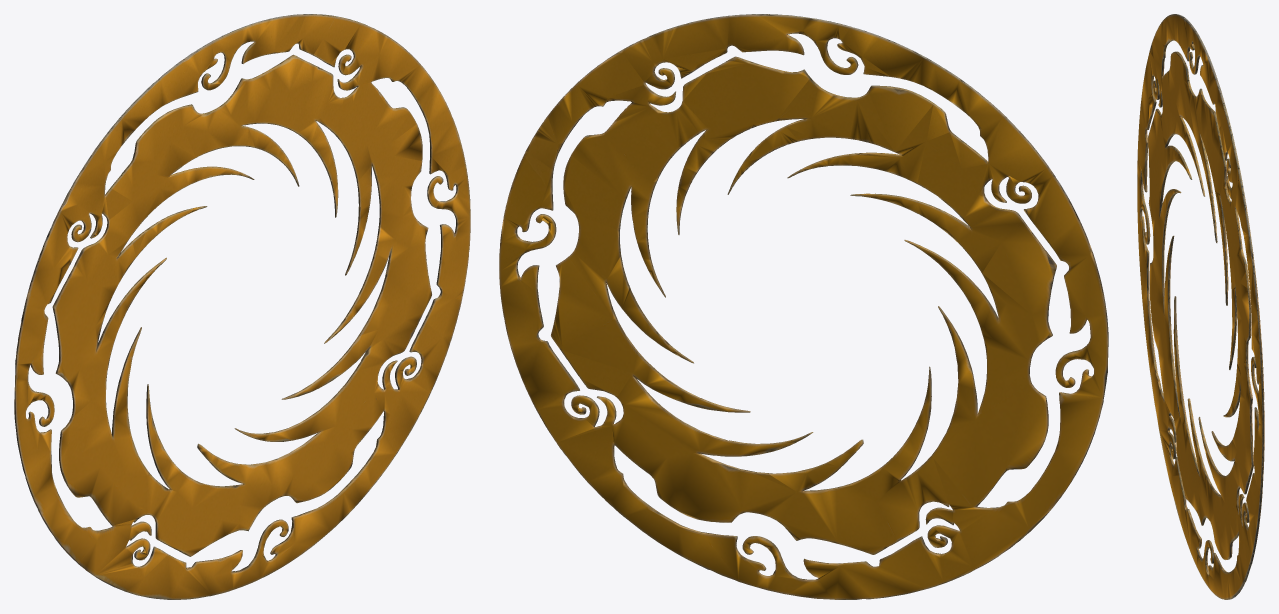
File: 05-sunbird.glb
3 renders of one model, left to right at view 1: azimuth 30°, elevation 25°; view 2: azimuth 150°, elevation 25°; view 3: azimuth 270°, elevation 25°, orthographic. The views are drawn at different scales.
Parts seen in each view (by area): view 1: Meshy_AI_Golden_Vortex_Emblem_0817192120_texture; view 2: Meshy_AI_Golden_Vortex_Emblem_0817192120_texture; view 3: Meshy_AI_Golden_Vortex_Emblem_0817192120_texture.
Boxes of the visible parts, left/top/right/bottom form: Meshy_AI_Golden_Vortex_Emblem_0817192120_texture: left=14, top=14, right=470, bottom=599; Meshy_AI_Golden_Vortex_Emblem_0817192120_texture: left=499, top=14, right=1108, bottom=599; Meshy_AI_Golden_Vortex_Emblem_0817192120_texture: left=1137, top=14, right=1264, bottom=599.
Size of the model in its own units: 0.5465 by 0.5595 by 0.1212.
Materials: 1 (1 with a texture image).
